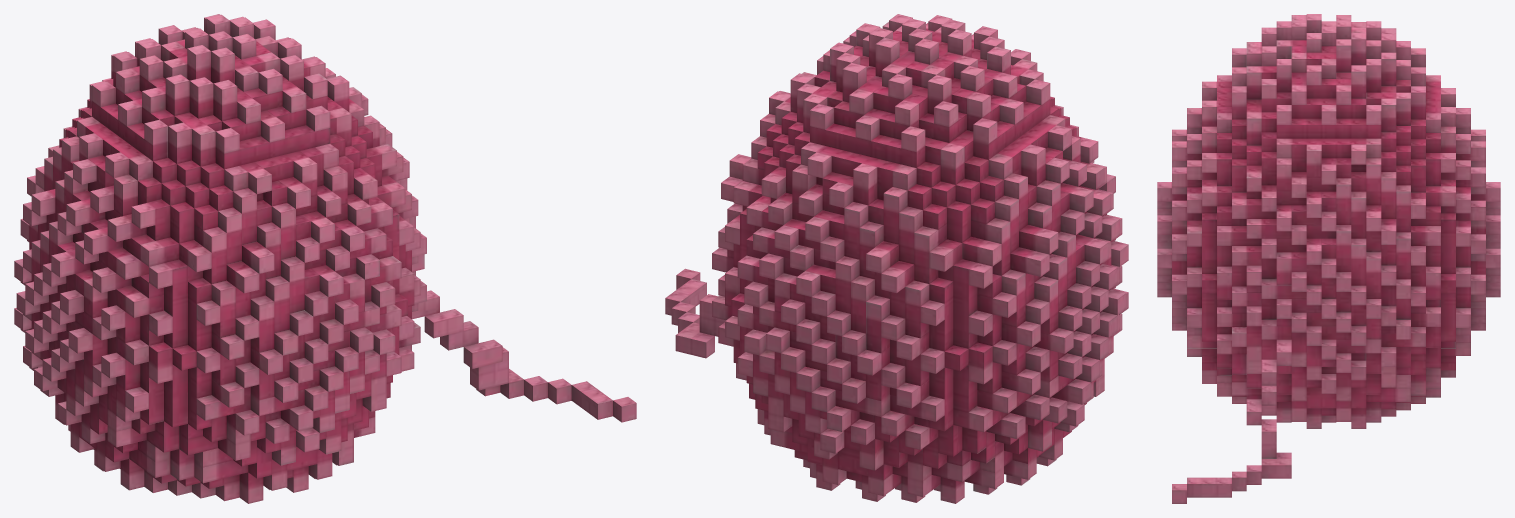
File: yarn-ball.glb
3 views of the same model, side by side, from view 1: azimuth 30°, elevation 25°; view 2: azimuth 150°, elevation 25°; view 3: azimuth 270°, elevation 25° (orthographic). The views are drawn at different scales.
Parts seen in each view (by area): view 1: Body; view 2: Body; view 3: Body.
Part boxes in pixels (box(x1,y1,x2,y2)): Body: box(14, 14, 636, 503); Body: box(665, 14, 1128, 503); Body: box(1157, 14, 1500, 503).
Size of the model in its own units: 4.95 by 3.9 by 3.45.
1 material, 1 textured.
